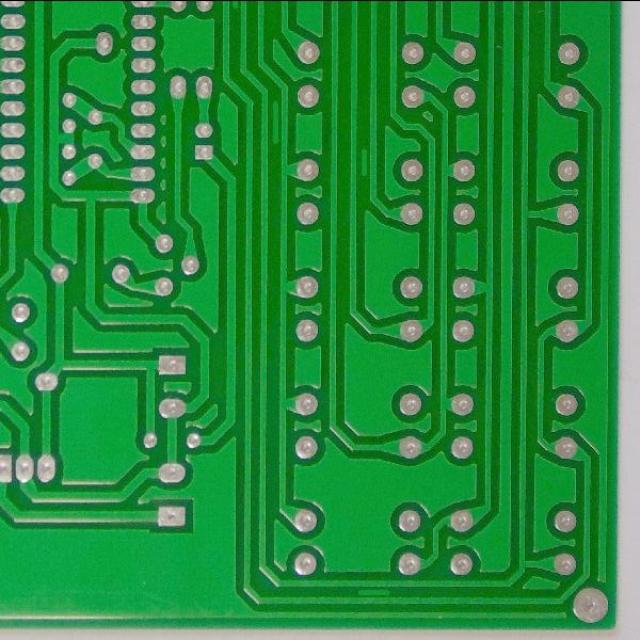Spurious_Cooper: (270, 97, 281, 148), (355, 587, 393, 597), (358, 144, 368, 180), (232, 0, 242, 13)
